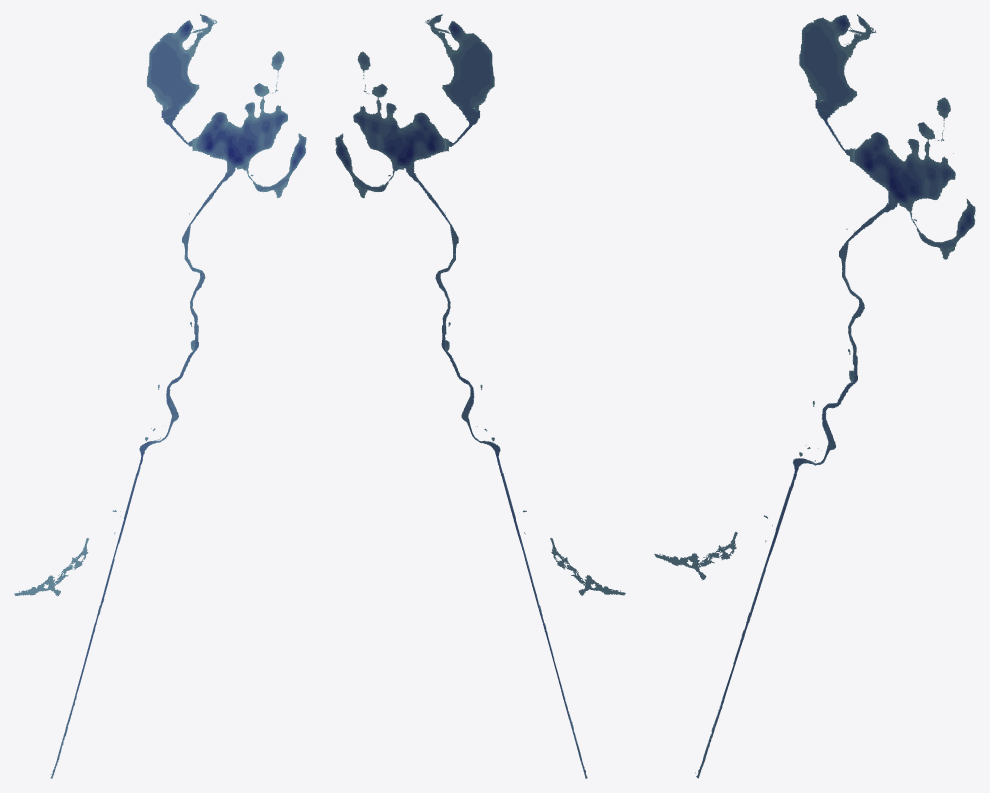
The model's file is triangle_mesh.glb.
The picture shows the model from 3 angles, left to right: view 1: azimuth 30°, elevation 25°; view 2: azimuth 150°, elevation 25°; view 3: azimuth 330°, elevation 25°; orthographic projection. The views are drawn at different scales.
Parts seen in each view (by area): view 1: world; view 2: world; view 3: world.
Boxes of the visible parts, <box> form: world: <box>14,14,306,778</box>; world: <box>335,14,625,778</box>; world: <box>654,14,975,778</box>.
Bounding box in the file's own units: 1147 × 2739 × 13.99.
